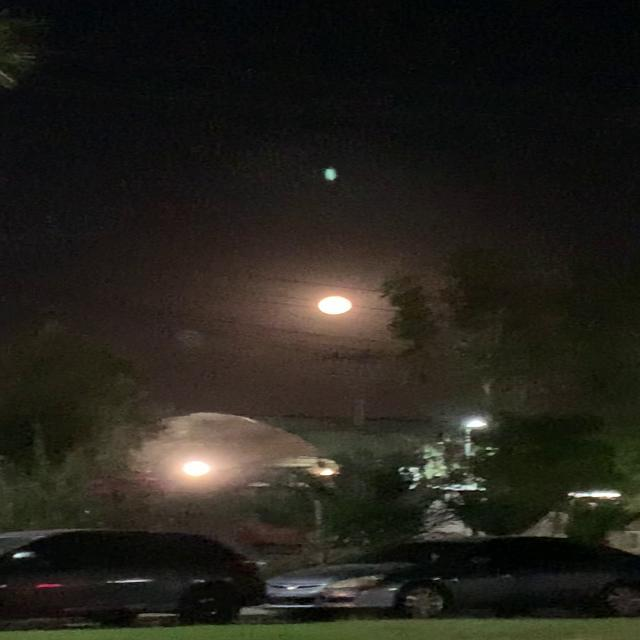moon: (318, 294, 361, 318)
